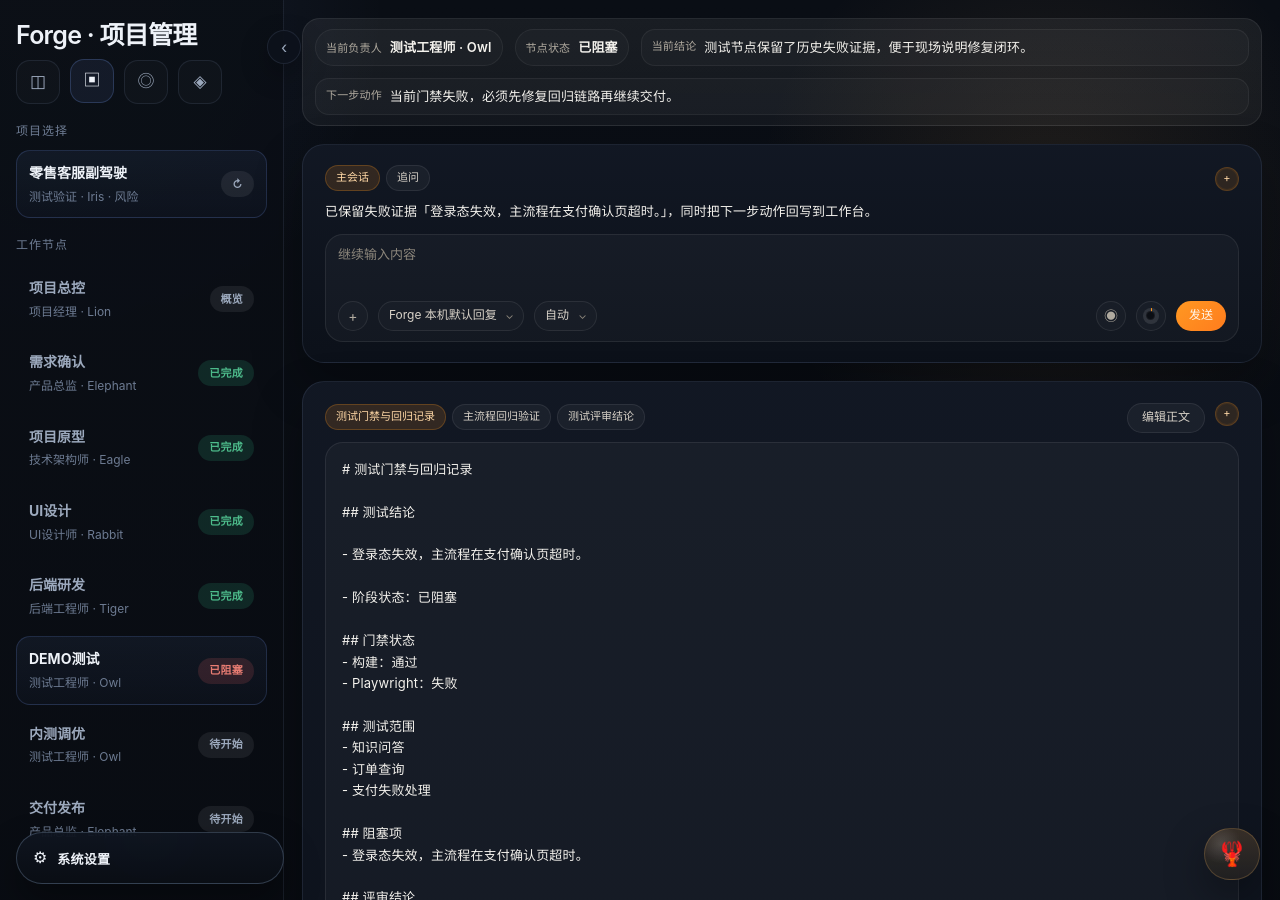
it: Forge projects page › uses the same employee display labels as the team page for workbench owners
This screenshot has width=1280, height=900.
Click the button "后端研发 后端工程师 · Tiger 已完成": coordinates (142, 596) [16,562,267,630]
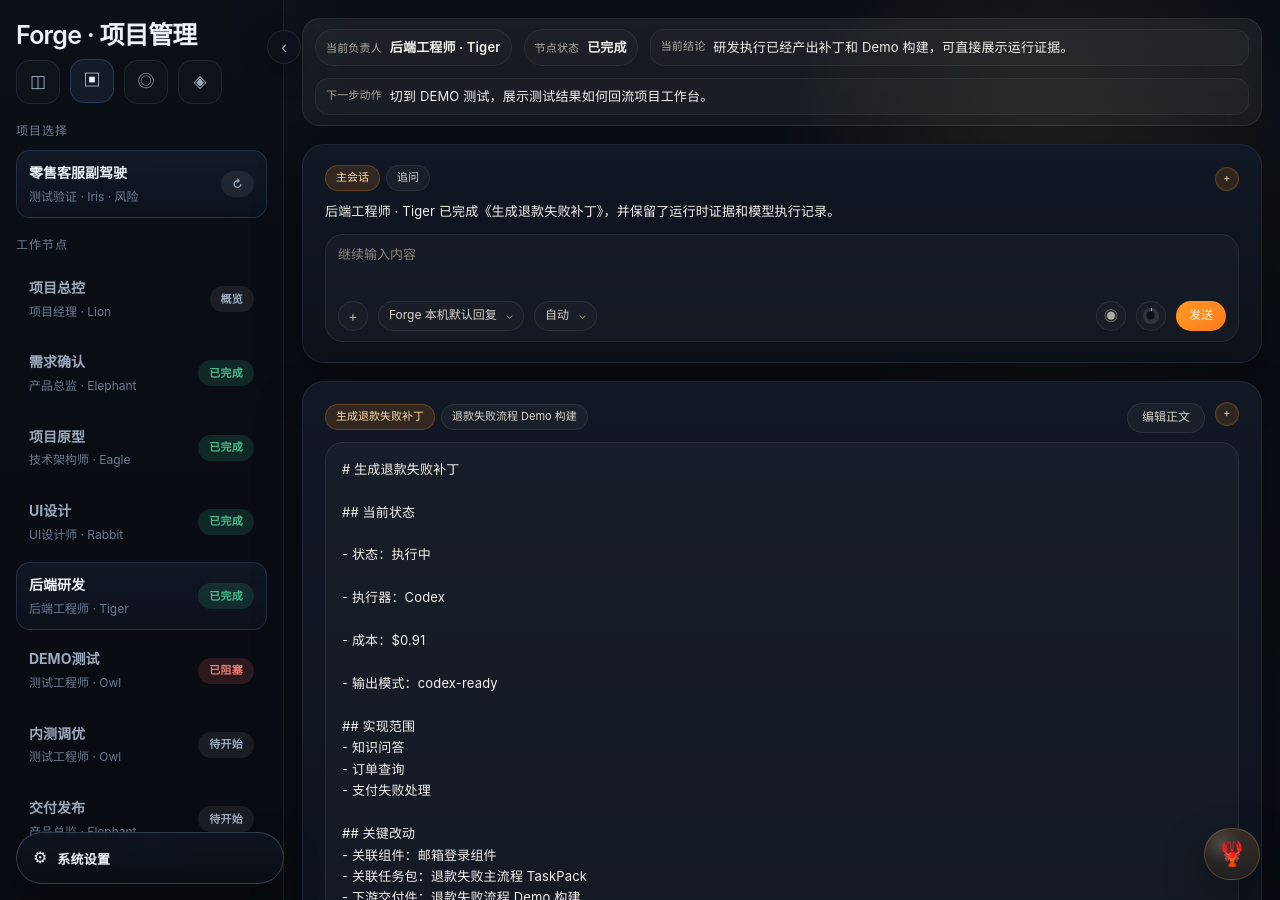
Now the text "后端工程师 · Tiger" next to "当前负责人" is shown, box [390,39,501,55]
